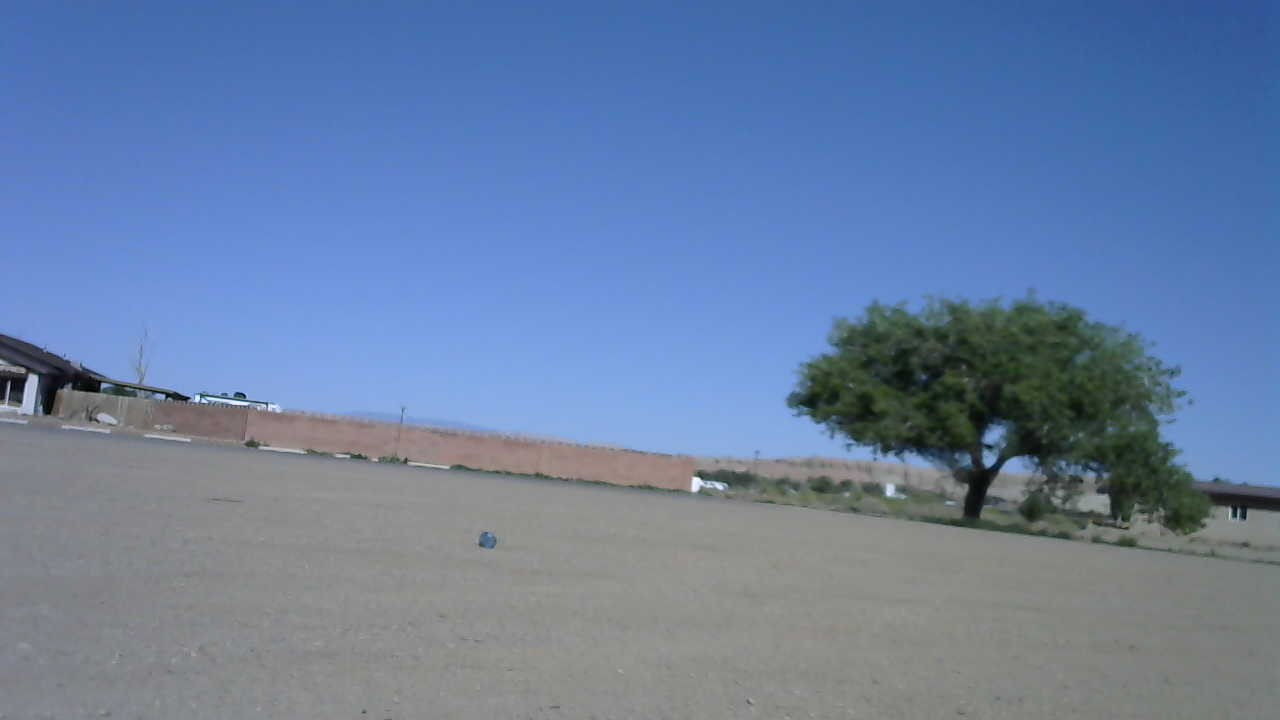bottle: (479, 524, 500, 552)
